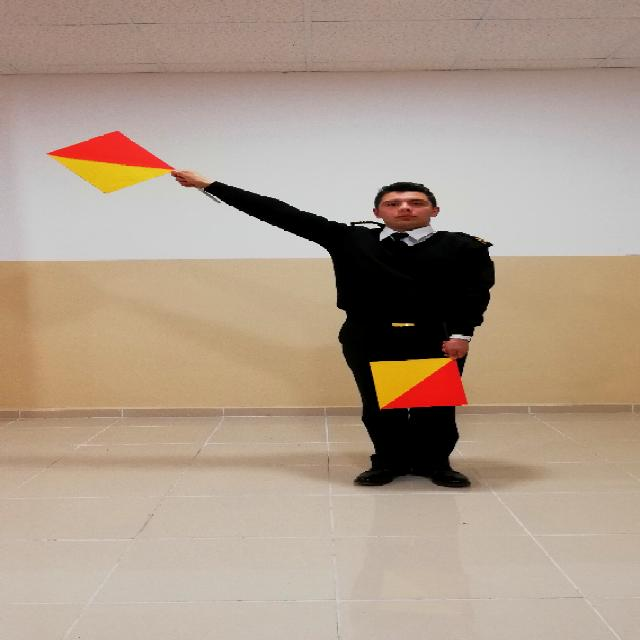C: (34, 113, 519, 499)
